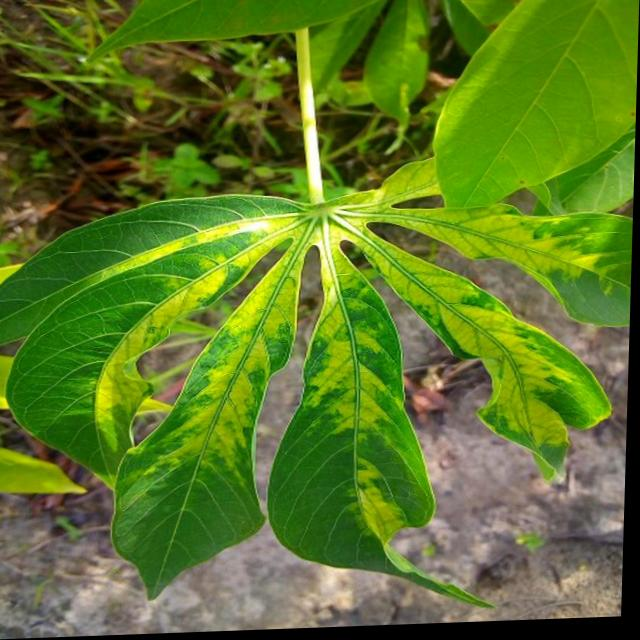Mosaico: (66, 176, 617, 569)
